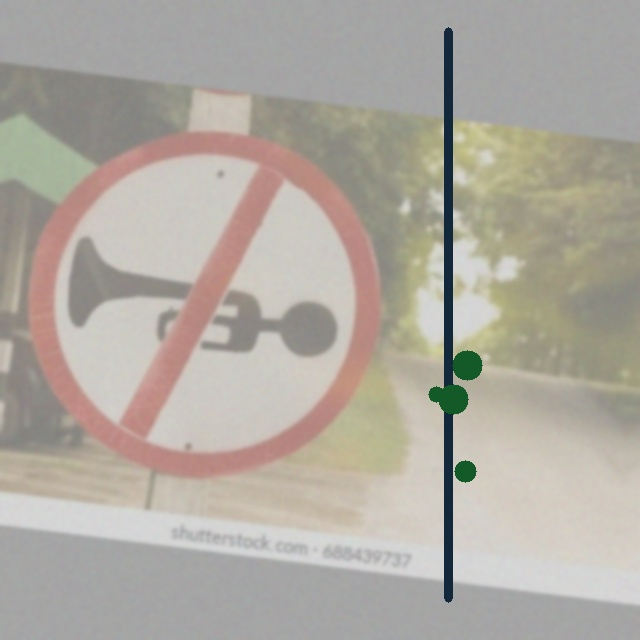Horn_Prohibited: (26, 128, 387, 477)
